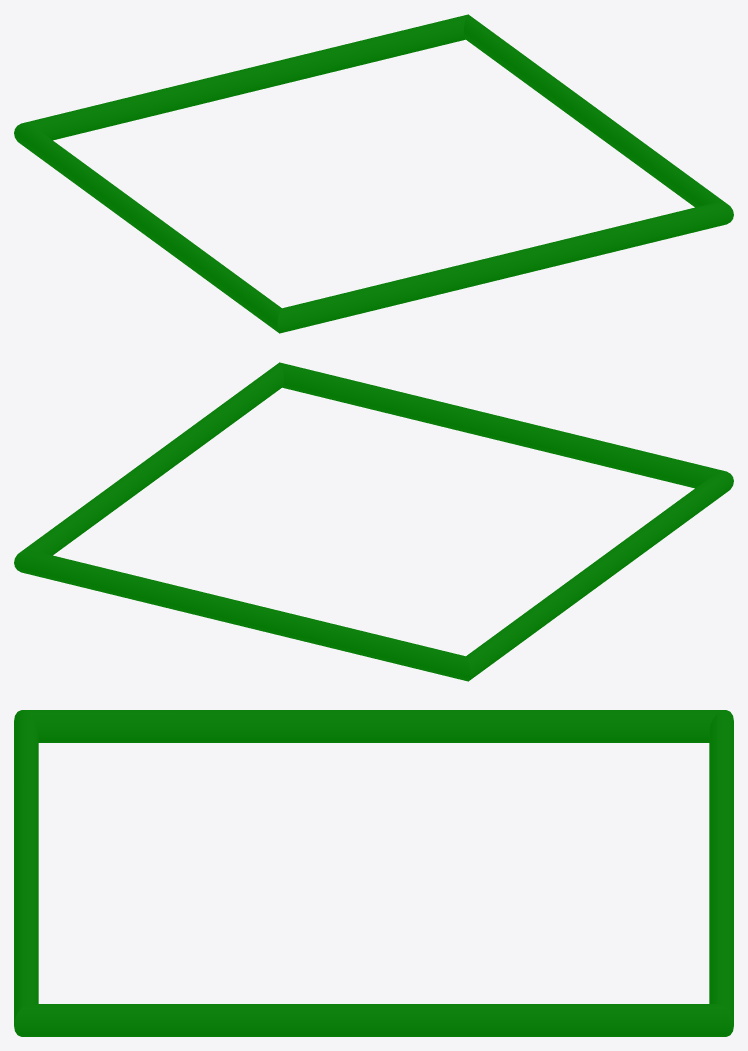
File: page_layout.fbx
3 views of the same model, one above another, from view 1: azimuth 30°, elevation 25°; view 2: azimuth 150°, elevation 25°; view 3: azimuth 270°, elevation 25° (orthographic). The views are drawn at different scales.
Parts seen in each view (by area): view 1: square; view 2: square; view 3: square.
Boxes of the visible parts, x1,y1,x2,y2 form: square: (14, 14, 733, 333); square: (14, 362, 733, 681); square: (14, 710, 733, 1036).
Size of what is drawn, in the model's own units: 104 by 5 by 104.
